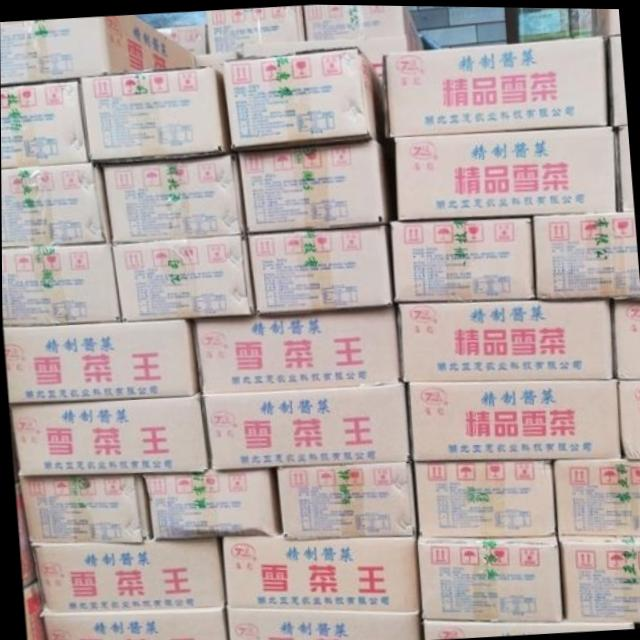box: (381, 33, 609, 135), (393, 122, 617, 219), (396, 297, 614, 382), (200, 382, 409, 470), (192, 305, 401, 392), (406, 378, 620, 461), (222, 44, 384, 150), (9, 393, 209, 475), (2, 319, 199, 402), (79, 64, 231, 166), (221, 534, 418, 611), (29, 537, 224, 612), (237, 140, 389, 232), (0, 14, 195, 84), (246, 222, 392, 315), (388, 214, 534, 302), (415, 534, 563, 620), (102, 152, 245, 240), (112, 233, 254, 319), (275, 461, 416, 539), (411, 459, 554, 534), (1, 242, 120, 326), (142, 468, 280, 540), (531, 208, 640, 298), (1, 161, 110, 246), (18, 473, 151, 542), (0, 77, 88, 166), (556, 535, 640, 620), (553, 457, 640, 535), (40, 605, 226, 640), (225, 608, 419, 640), (205, 4, 304, 52), (421, 621, 633, 639), (303, 4, 411, 38), (612, 296, 640, 377), (617, 377, 640, 458)
